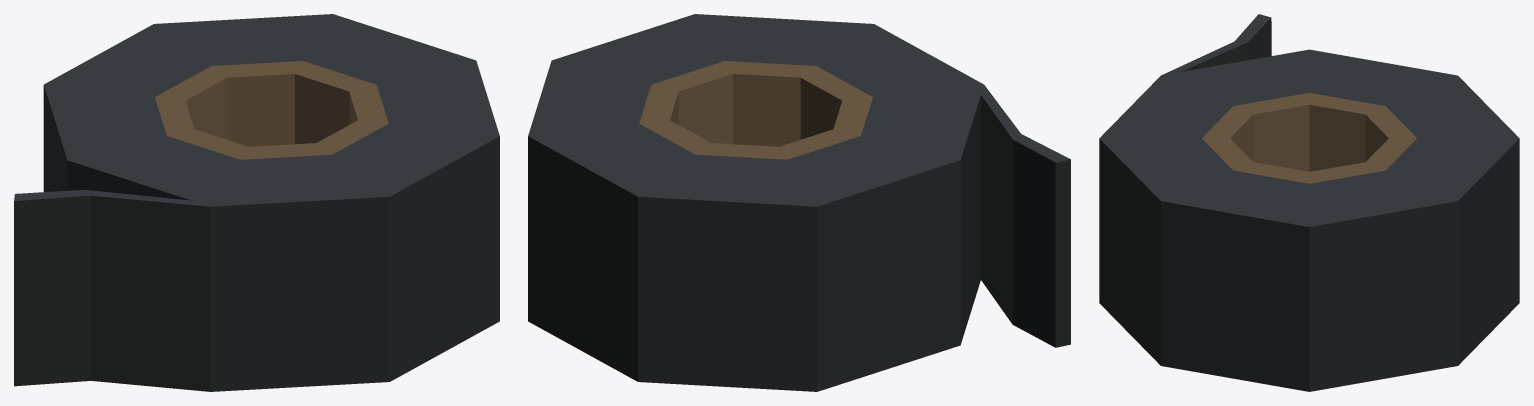
The model's file is SM_Item_Tape_01_765.obj.
3 views of the same model, side by side, from view 1: azimuth 30°, elevation 25°; view 2: azimuth 150°, elevation 25°; view 3: azimuth 270°, elevation 25° (orthographic). The views are drawn at different scales.
Parts seen in each view (by area): view 1: SM_Item_Tape_01_0; view 2: SM_Item_Tape_01_0; view 3: SM_Item_Tape_01_0.
Boxes of the visible parts, box(x1,y1,x2,y2) form: SM_Item_Tape_01_0: box(14, 14, 499, 391); SM_Item_Tape_01_0: box(528, 14, 1070, 391); SM_Item_Tape_01_0: box(1099, 14, 1519, 391).
Bounding box in the file's own units: 0.2498 × 0.0901 × 0.2081.
Materials: 1 (1 with a texture image).
